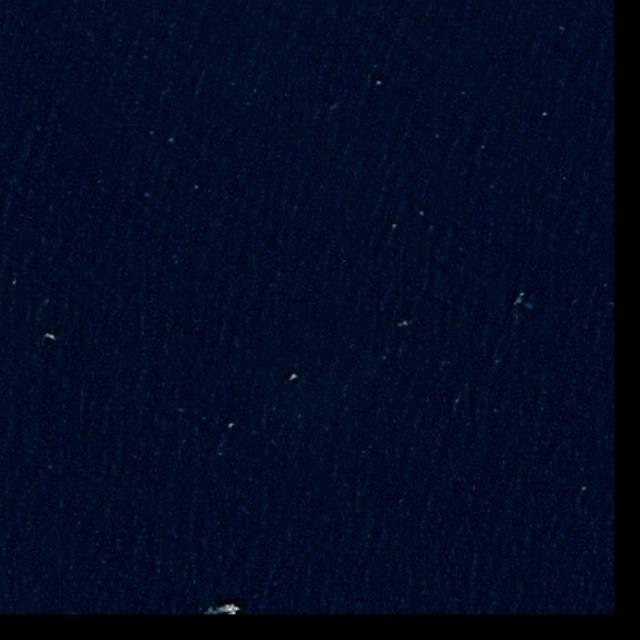ship: (226, 605, 242, 614)
